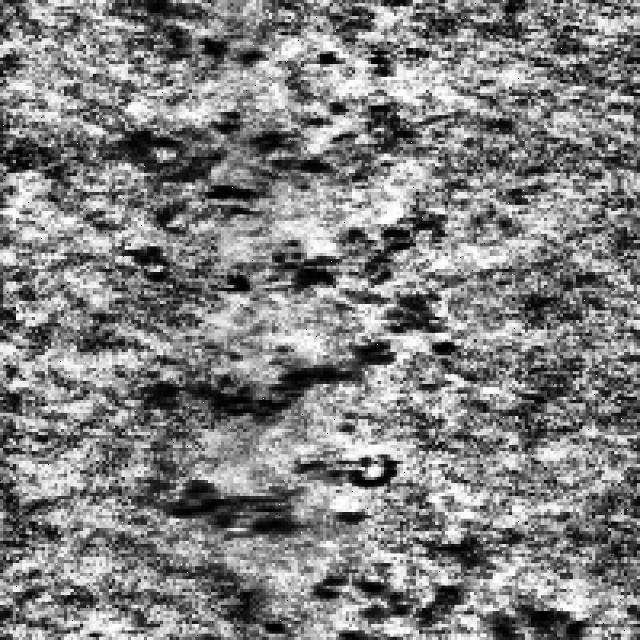Crazing: (176, 32, 435, 301), (160, 330, 464, 548), (269, 566, 576, 634)
